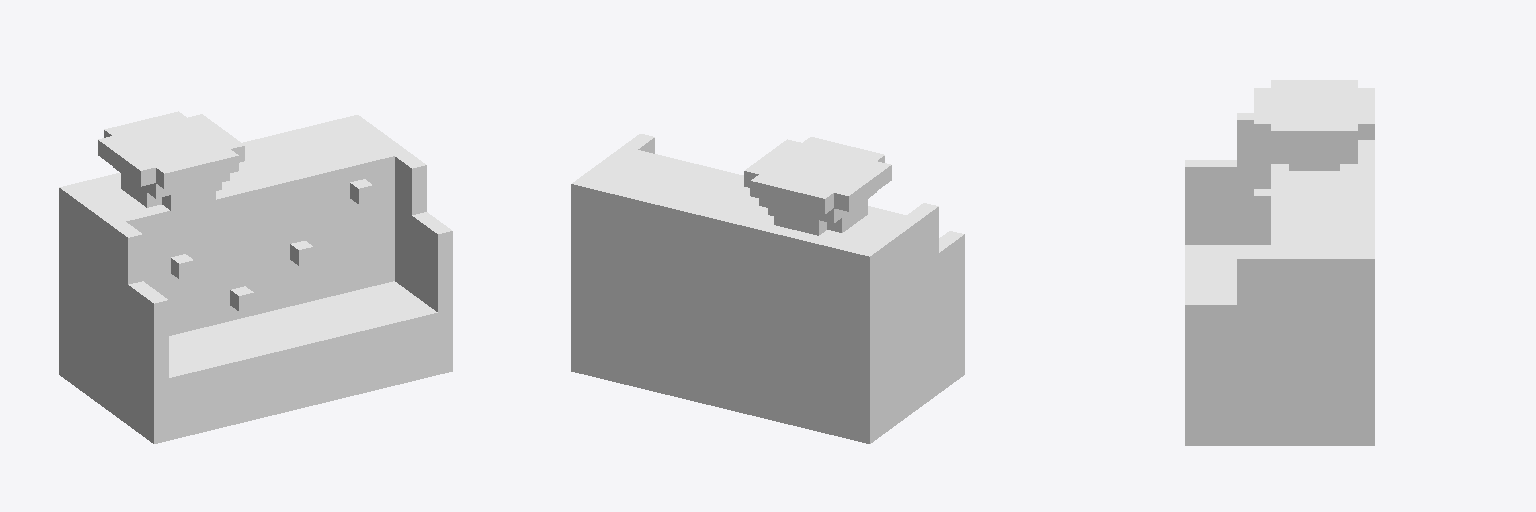
The model's file is gear_box.obj.
The picture shows the model from 3 angles: view 1: azimuth 30°, elevation 25°; view 2: azimuth 150°, elevation 25°; view 3: azimuth 270°, elevation 25°; orthographic projection.
Parts seen in each view (by area): view 1: gear_box; view 2: gear_box; view 3: gear_box.
Boxes of the visible parts, box(x1,y1,x2,y2) form: gear_box: box(59, 111, 452, 443); gear_box: box(571, 134, 964, 443); gear_box: box(1185, 80, 1374, 445).
Bounding box in the file's own units: 20 × 15 × 11.